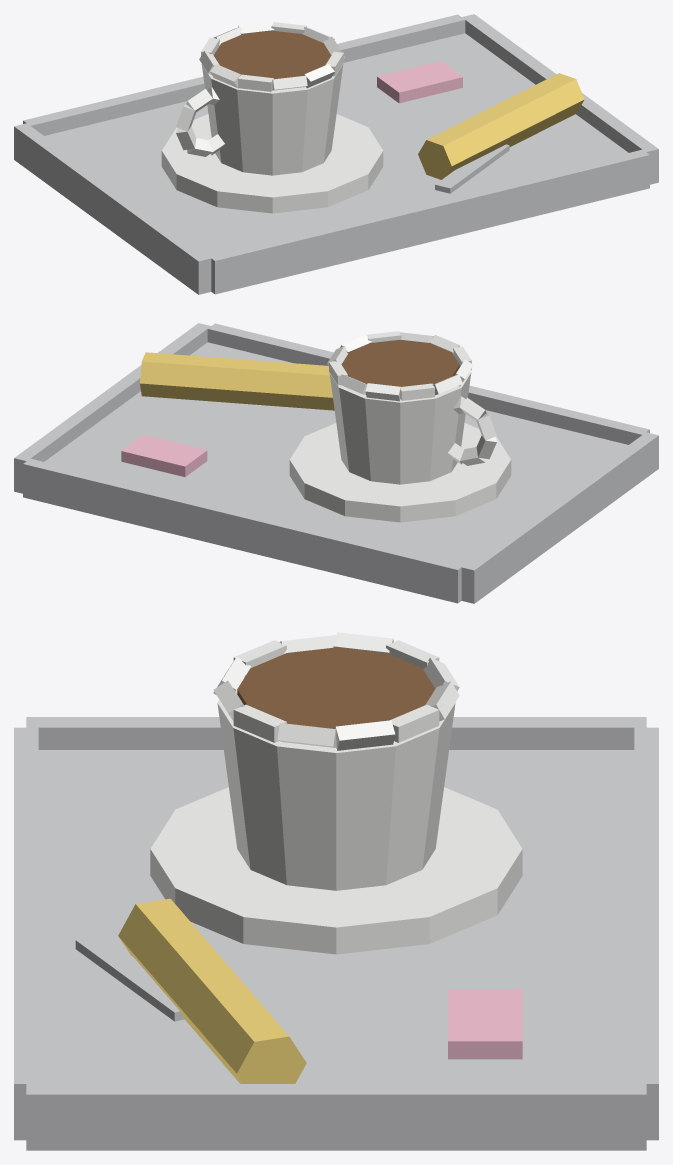
File: HJ_Cafe.fbx
The picture shows the model from 3 angles, top to bottom: view 1: azimuth 30°, elevation 25°; view 2: azimuth 150°, elevation 25°; view 3: azimuth 270°, elevation 25°; orthographic projection. The views are drawn at different scales.
Parts seen in each view (by area): view 1: HJ_Cafe; view 2: HJ_Cafe; view 3: HJ_Cafe.
Part boxes in pixels (x1=…): HJ_Cafe: x1=14, y1=14, x2=658, y2=294; HJ_Cafe: x1=14, y1=323, x2=658, y2=603; HJ_Cafe: x1=14, y1=632, x2=658, y2=1150.
Bounding box in the file's own units: 0.36 × 0.1018 × 0.26.
